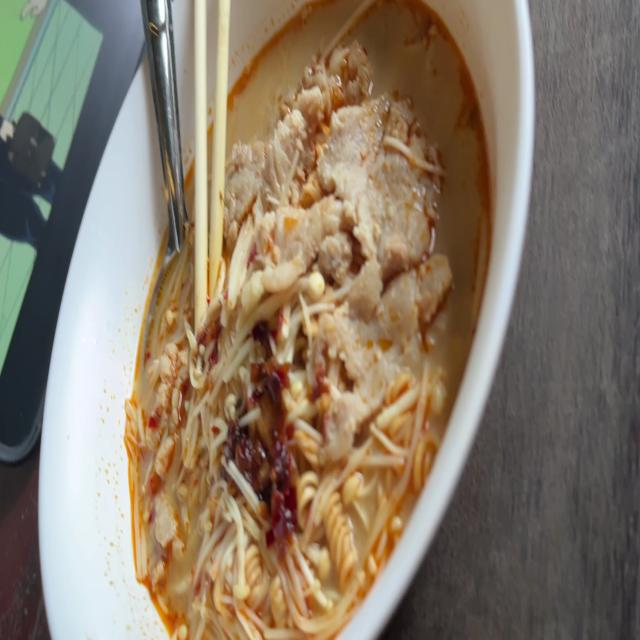noodle: (110, 0, 503, 640)
